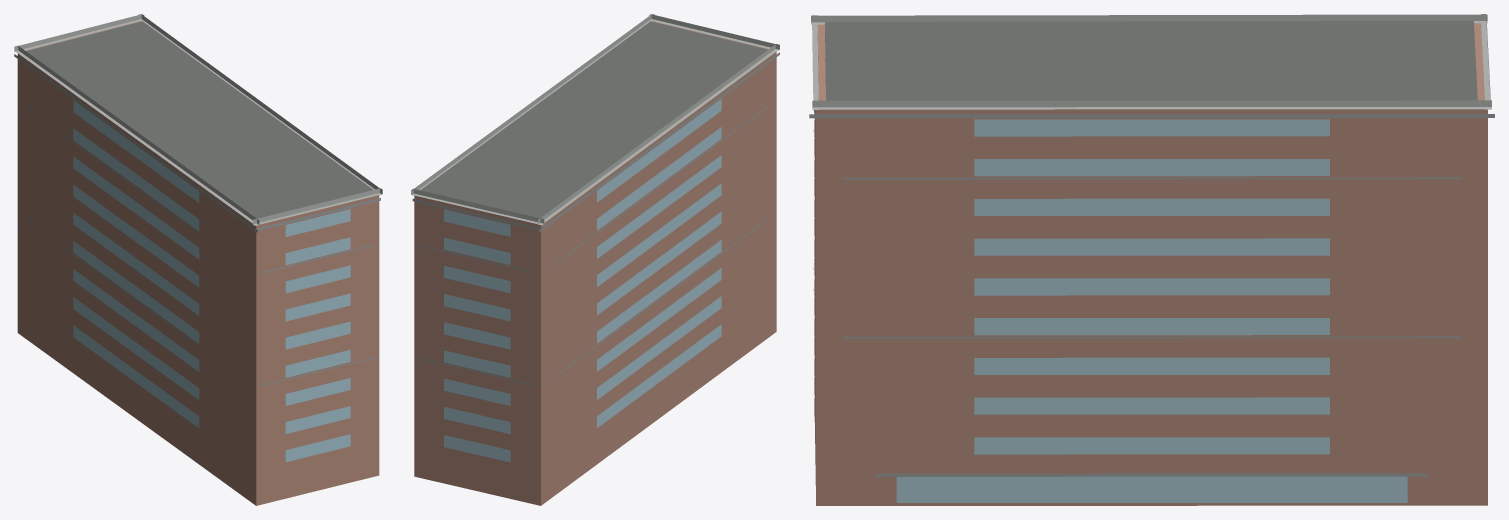
Rendered from tile-p003-p001.glb.
3 views of the same model, side by side, from view 1: azimuth 30°, elevation 25°; view 2: azimuth 150°, elevation 25°; view 3: azimuth 270°, elevation 25° (orthographic). The views are drawn at different scales.
Visible parts, largest first — view 1: building-1244-mesh-0, building-1244-mesh-3, building-1244-mesh-1, building-1244-mesh-4, building-1244-mesh-2; view 2: building-1244-mesh-0, building-1244-mesh-3, building-1244-mesh-1, building-1244-mesh-4, building-1244-mesh-2; view 3: building-1244-mesh-0, building-1244-mesh-1, building-1244-mesh-3, building-1244-mesh-4, building-1244-mesh-2.
Boxes of the visible parts, <box> form: building-1244-mesh-0: <box>17,21,379,505</box>; building-1244-mesh-3: <box>26,21,372,218</box>; building-1244-mesh-1: <box>73,100,350,462</box>; building-1244-mesh-4: <box>14,14,382,225</box>; building-1244-mesh-2: <box>14,54,380,385</box>; building-1244-mesh-0: <box>414,21,776,505</box>; building-1244-mesh-3: <box>420,21,767,217</box>; building-1244-mesh-1: <box>444,99,721,462</box>; building-1244-mesh-4: <box>411,14,779,225</box>; building-1244-mesh-2: <box>412,52,779,385</box>; building-1244-mesh-0: <box>814,23,1487,505</box>; building-1244-mesh-1: <box>814,110,1407,502</box>; building-1244-mesh-3: <box>825,21,1477,100</box>; building-1244-mesh-4: <box>811,14,1491,109</box>; building-1244-mesh-2: <box>809,110,1494,476</box>.
Bounding box in the file's own units: 16.19 × 34.05 × 52.45.
